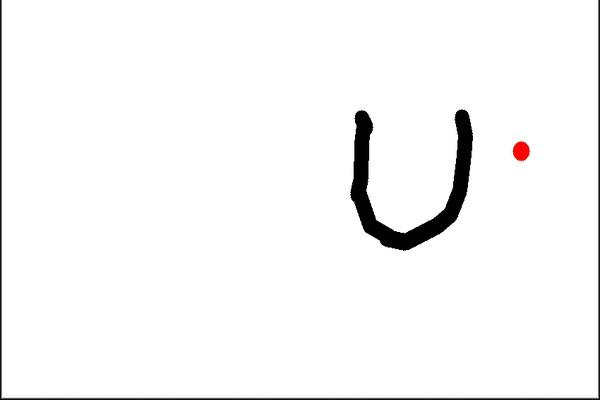U: (344, 86, 484, 251)
